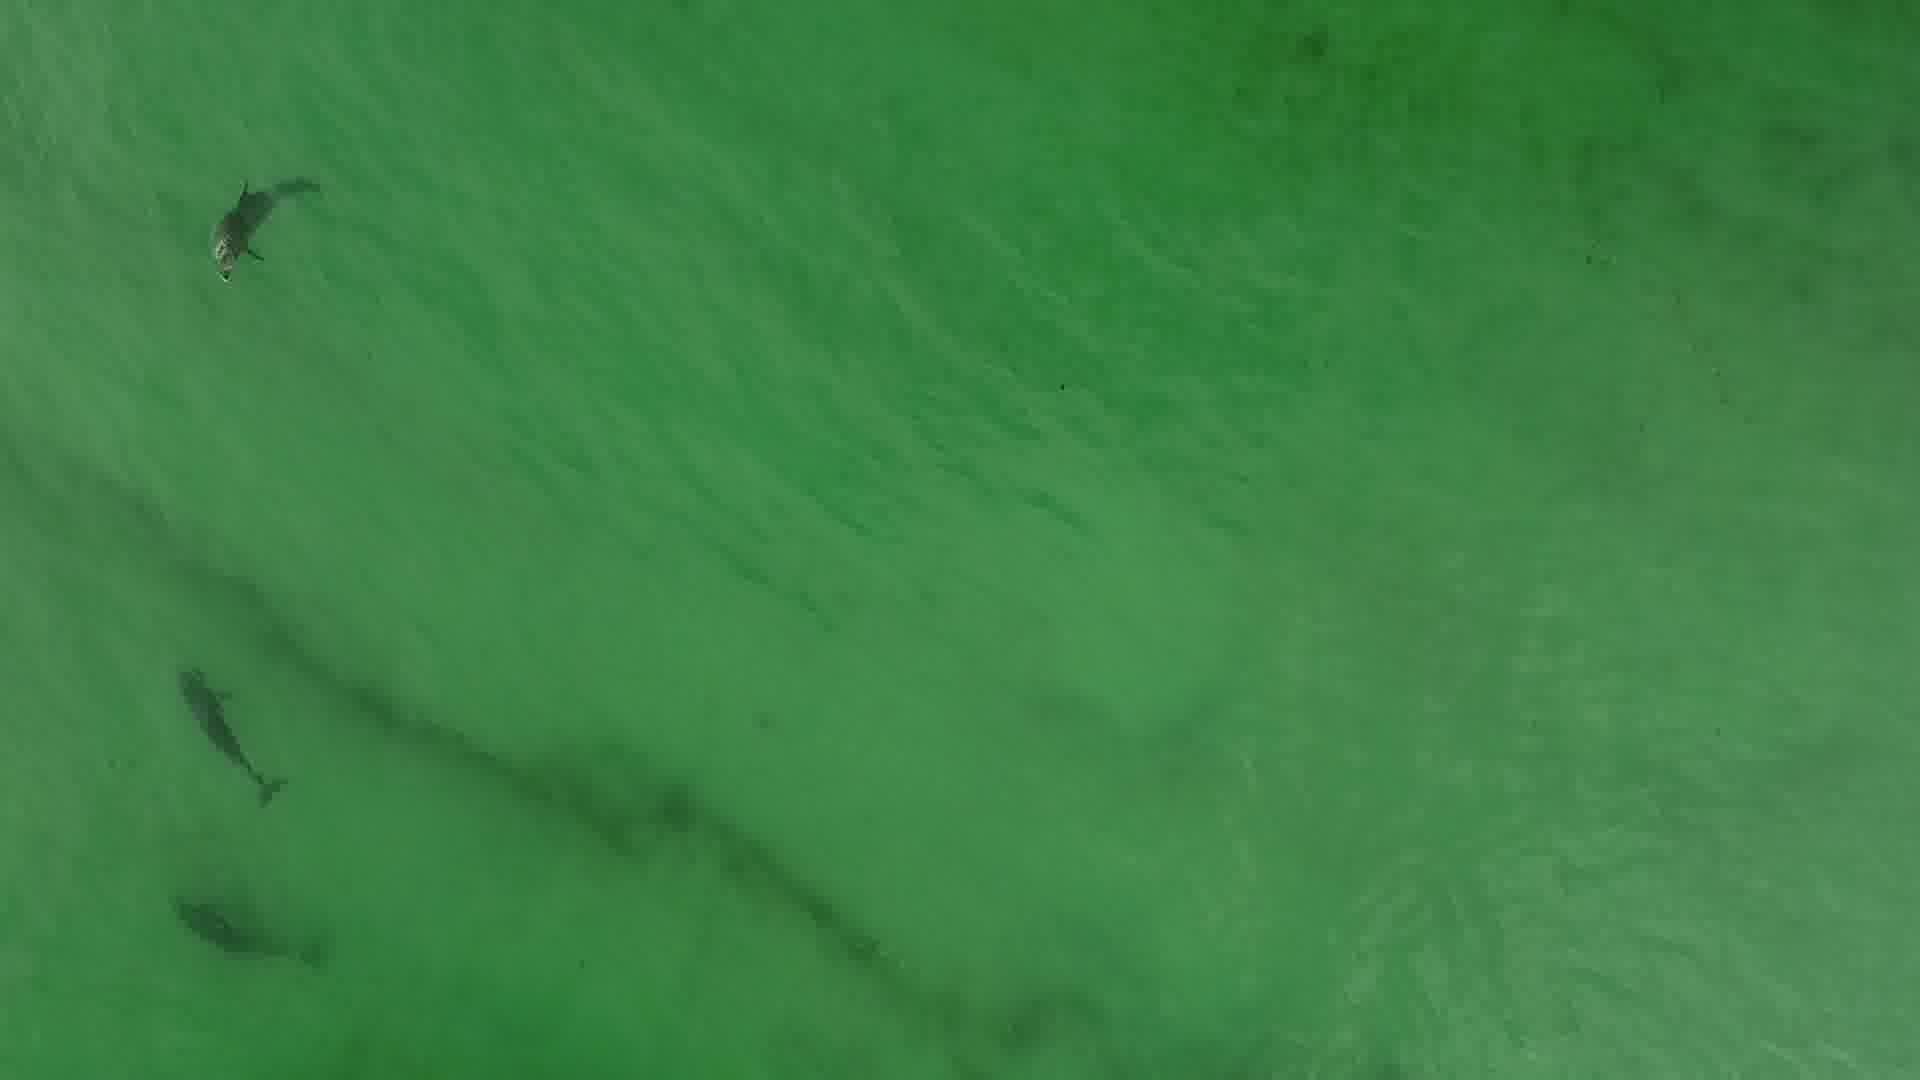dolphin: (138, 618, 290, 833), (138, 861, 332, 994), (169, 132, 319, 293)
